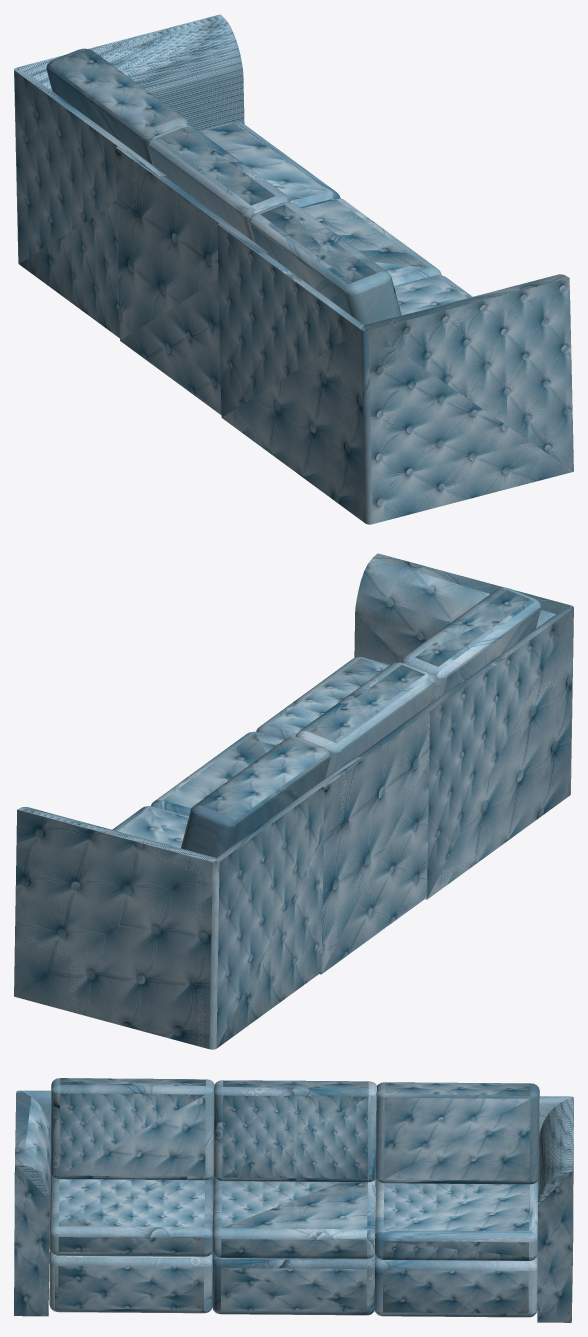
File: sofa4again.glb
3 views of the same model, one above another, from view 1: azimuth 30°, elevation 25°; view 2: azimuth 150°, elevation 25°; view 3: azimuth 270°, elevation 25° (orthographic). The views are drawn at different scales.
Parts seen in each view (by area): view 1: sofa1; view 2: sofa1; view 3: sofa1.
Boxes of the visible parts, box(x1,y1,x2,y2) form: sofa1: box(14, 14, 573, 524); sofa1: box(14, 553, 573, 1049); sofa1: box(14, 1078, 573, 1322).
Bounding box in the file's own units: 0.8646 × 0.8453 × 2.46.
Materials: 1 (1 with a texture image).
